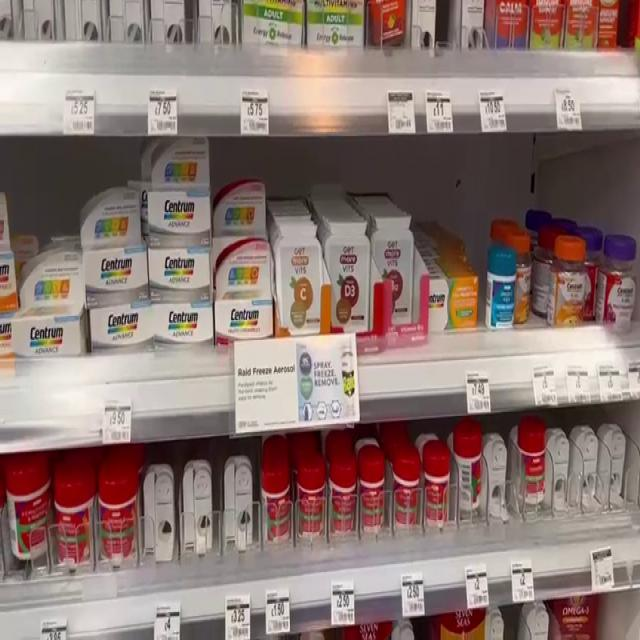Other: (5, 258, 91, 365), (265, 204, 332, 339), (360, 205, 427, 325), (141, 137, 218, 238), (322, 200, 371, 343), (212, 243, 280, 342), (49, 445, 98, 578), (97, 434, 139, 569), (6, 444, 49, 574), (509, 412, 555, 528), (83, 294, 158, 359), (143, 237, 215, 303), (593, 240, 639, 340), (415, 265, 481, 332), (150, 293, 223, 352), (84, 247, 159, 302), (549, 229, 589, 329), (495, 225, 534, 325), (328, 434, 361, 549), (483, 243, 525, 332), (266, 440, 297, 553), (294, 447, 328, 548), (457, 425, 490, 527), (425, 425, 454, 538), (360, 438, 389, 550), (392, 444, 422, 534)
